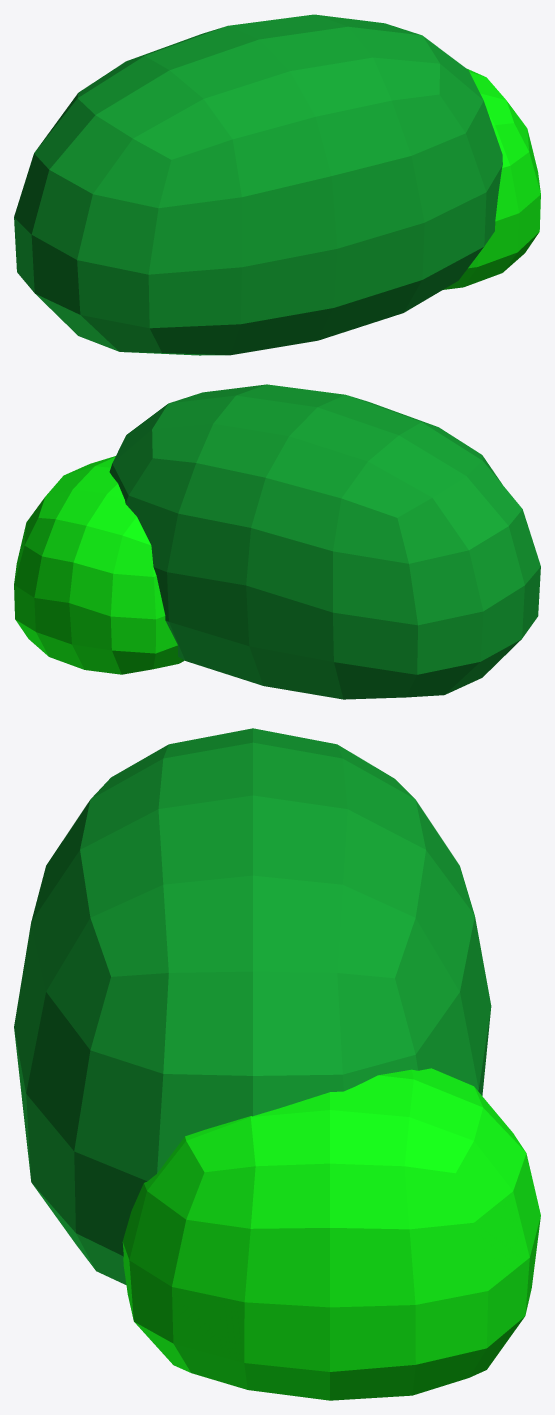
The model's file is GrassFive.glb.
3 renders of one model, top to bottom at view 1: azimuth 30°, elevation 25°; view 2: azimuth 150°, elevation 25°; view 3: azimuth 270°, elevation 25°, orthographic. The views are drawn at different scales.
Visible parts, largest first — view 1: GrassFive; view 2: GrassFive; view 3: GrassFive.
Part boxes in pixels (box(x1,y1,x2,y2)): GrassFive: box(14, 14, 540, 355); GrassFive: box(14, 384, 540, 699); GrassFive: box(14, 728, 540, 1400).
Bounding box in the file's own units: 25.37 × 13.59 × 14.88.
